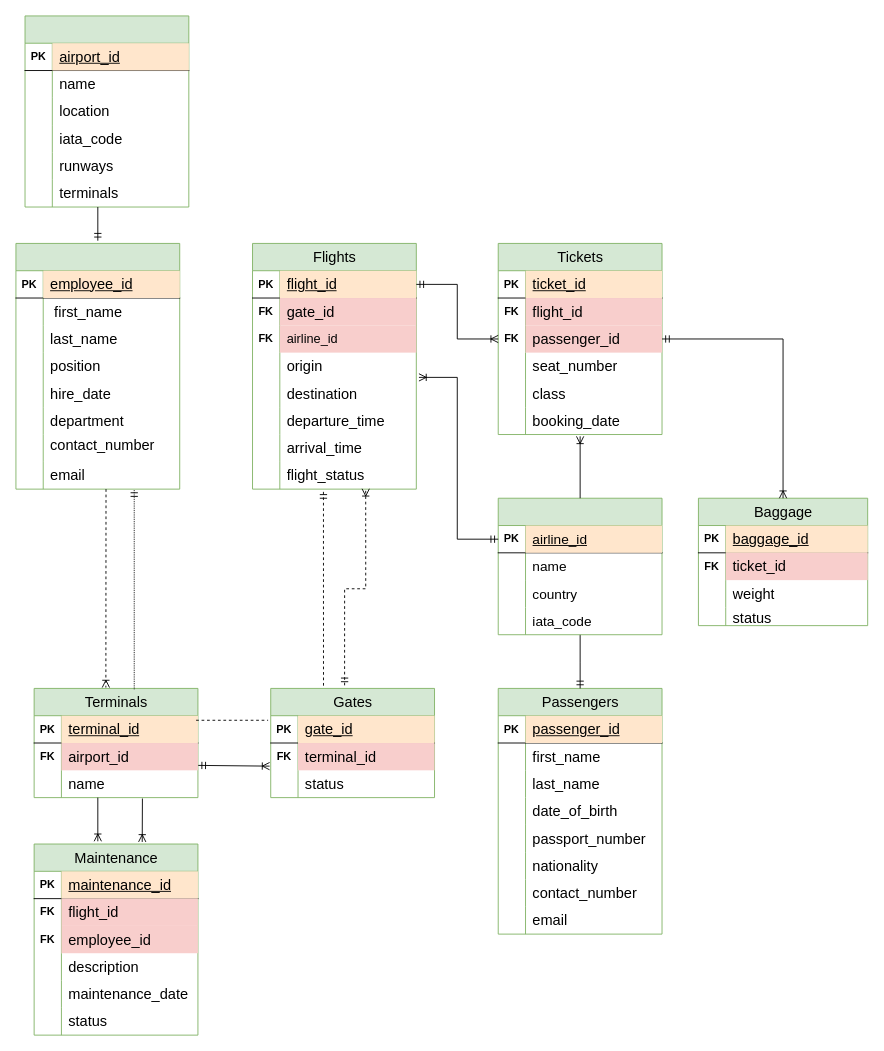
This 884x1051 diagram has some shape labels left out. The shapes that lost their labels are listed below. From the top down, each one's box as (x1, y1, x2, y2) in pixels, then its label:
(24, 15, 189, 207): Airports
(15, 243, 180, 489): Employees
(497, 497, 662, 635): Airlines
